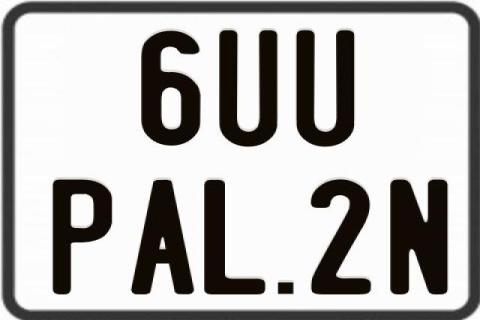0: (140, 29, 200, 149), (309, 178, 371, 294)
A: (129, 179, 197, 297)
L: (204, 179, 266, 299)
N: (388, 179, 452, 297)
P: (50, 178, 112, 296)
U: (216, 29, 280, 150), (293, 29, 357, 145)
